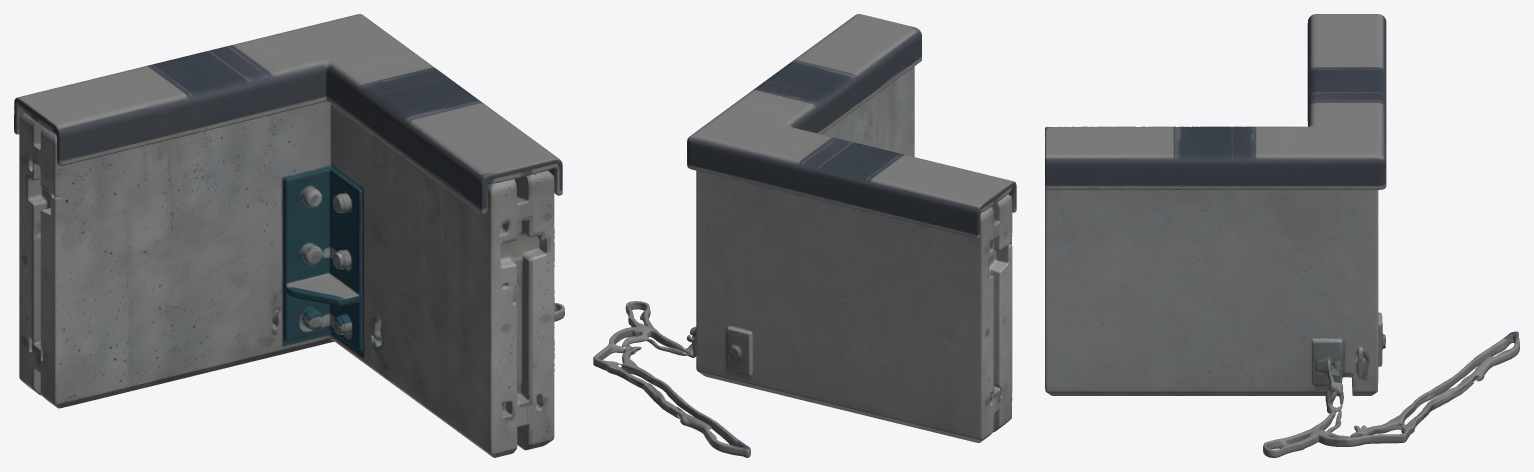
Rendered from modular_concrete_parapet_corner.glb.
The picture shows the model from 3 angles, left to right: view 1: azimuth 30°, elevation 25°; view 2: azimuth 150°, elevation 25°; view 3: azimuth 270°, elevation 25°; orthographic projection. The views are drawn at different scales.
Parts seen in each view (by area): view 1: tripo_node_856761c1-3195-47ca-bbe4-ebacaab983bb; view 2: tripo_node_856761c1-3195-47ca-bbe4-ebacaab983bb; view 3: tripo_node_856761c1-3195-47ca-bbe4-ebacaab983bb.
Boxes of the visible parts, x1,y1,x2,y2 form: tripo_node_856761c1-3195-47ca-bbe4-ebacaab983bb: (14,14,564,457); tripo_node_856761c1-3195-47ca-bbe4-ebacaab983bb: (593,14,1016,457); tripo_node_856761c1-3195-47ca-bbe4-ebacaab983bb: (1045,14,1519,457).
Bounding box in the file's own units: 0.9973 × 0.5692 × 1.
1 material, 1 textured.
